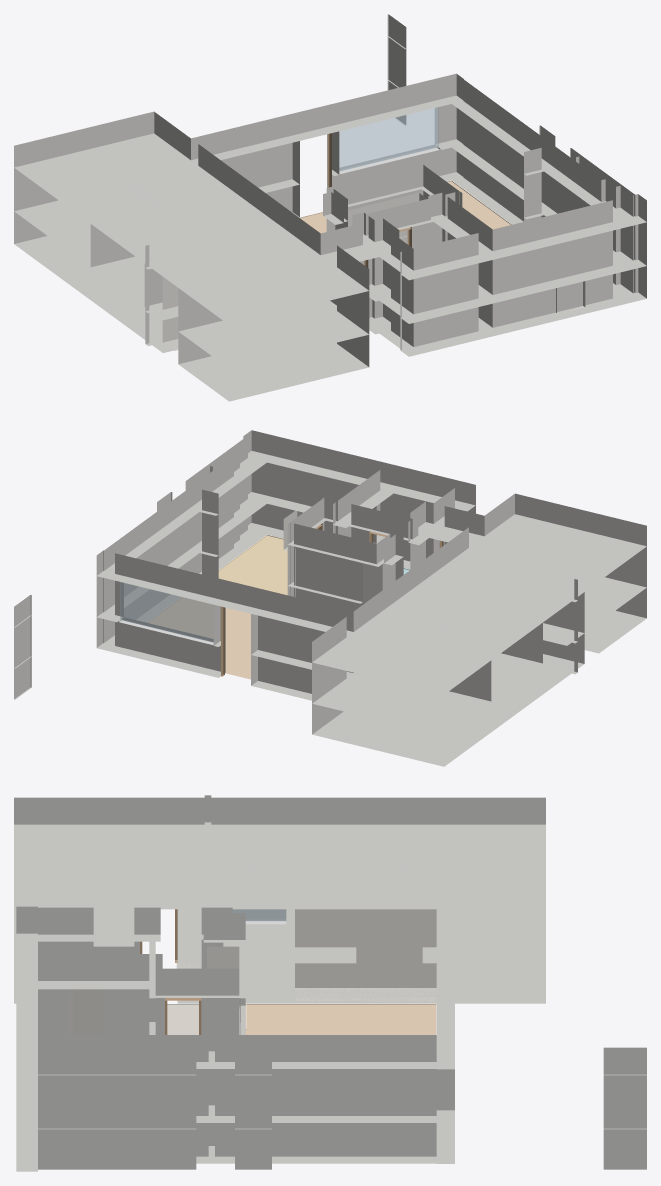
The picture shows the model from 3 angles, top to bottom: view 1: azimuth 30°, elevation 25°; view 2: azimuth 150°, elevation 25°; view 3: azimuth 270°, elevation 25°; orthographic projection. The views are drawn at different scales.
Parts seen in each view (by area): view 1: walls, window_2, floor_0_Living_Room, furniture_2_closet, furniture_1_closet; view 2: walls, window_2, floor_0_Living_Room, floor_2_Kitchen, furniture_1_closet; view 3: walls, furniture_0_closet, floor_0_Living_Room, furniture_3_closet, floor_1_Entry, furniture_1_closet, window_6.
Boxes of the visible parts, box(x1,y1,x2,y2) form: walls: box(14, 14, 646, 401); window_2: box(339, 107, 438, 171); floor_0_Living_Room: box(299, 180, 511, 233); furniture_2_closet: box(162, 277, 178, 350); furniture_1_closet: box(348, 193, 426, 243); walls: box(14, 430, 646, 766); window_2: box(120, 582, 215, 642); floor_0_Living_Room: box(147, 597, 250, 679); floor_2_Kitchen: box(218, 535, 287, 595); furniture_1_closet: box(295, 548, 382, 602); walls: box(14, 795, 646, 1171); furniture_0_closet: box(295, 909, 436, 1001); floor_0_Living_Room: box(245, 1004, 436, 1034); furniture_3_closet: box(68, 989, 103, 1034); floor_1_Entry: box(167, 1004, 245, 1034); furniture_1_closet: box(207, 946, 240, 1034); window_6: box(232, 909, 286, 921).
Size of the model in its own units: 12.14 by 2.72 by 12.74.
